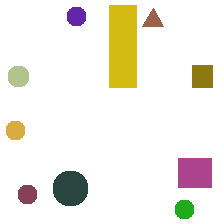circle: (53, 171, 87, 205), (8, 66, 28, 86), (6, 121, 24, 139), (67, 7, 85, 25), (175, 200, 193, 218), (18, 185, 36, 203)
rectangle: (109, 5, 136, 87), (178, 158, 211, 187), (192, 65, 212, 87)
triangle: (142, 8, 163, 26)
